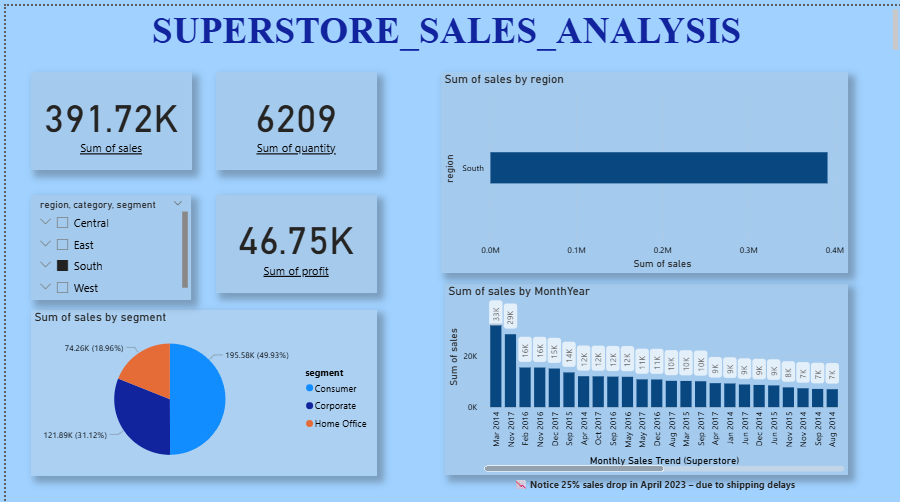

This screenshot's page, from the dashboard's own definition file:
{"tool":"powerbi","page":{"name":"Page 1","canvas":[1280,720],"ordinal":0},"visuals":[{"type":"lineClusteredColumnComboChart","fields":{"Category":["DateTable.MonthYear"],"Y":["Sum(Sample___Superstore.sales)"]},"box":[627.2,396.3,575.9,273.7],"z":0},{"type":"textbox","box":[721.2,669.9,436.2,34.2],"z":1000},{"type":"barChart","fields":{"Category":["Sample___Superstore.region"],"Y":["Sum(Sample___Superstore.sales)"]},"box":[621.5,94.1,581.6,286.5],"z":2000},{"type":"pieChart","fields":{"Category":["Sample___Superstore.segment"],"Y":["Sum(Sample___Superstore.sales)"]},"box":[35.3,433.8,494.1,236.8],"z":3000},{"type":"card","fields":{"Values":["Sum(Sample___Superstore.sales)"]},"box":[35.3,94.1,229.4,139.7],"z":3002},{"type":"card","fields":{"Values":["Sum(Sample___Superstore.profit)"]},"box":[300,269.1,229.4,139.7],"z":3003},{"type":"card","fields":{"Values":["Sum(Sample___Superstore.quantity)"]},"box":[300,94.1,229.4,139.7],"z":3004},{"type":"textbox","box":[202.9,0,1076.5,69.1],"z":3006},{"type":"slicer","fields":{"Values":["Sample___Superstore.region","Sample___Superstore.category","Sample___Superstore.segment"]},"box":[35,269,229,150],"z":3007}]}

Visuals, with their boxes in screenshot pixels (x1, y1, x2, y2), scaled from the page's 1280x720 canvas onto the 900x502 screenshot:
lineClusteredColumnComboChart - DateTable.MonthYear x Sum(Sample___Superstore.sales): Rect(441, 276, 846, 467)
textbox: Rect(507, 467, 814, 491)
barChart - Sample___Superstore.region x Sum(Sample___Superstore.sales): Rect(437, 66, 846, 265)
pieChart - Sample___Superstore.segment x Sum(Sample___Superstore.sales): Rect(25, 302, 372, 468)
card - Sum(Sample___Superstore.sales): Rect(25, 66, 186, 163)
card - Sum(Sample___Superstore.profit): Rect(211, 188, 372, 285)
card - Sum(Sample___Superstore.quantity): Rect(211, 66, 372, 163)
textbox: Rect(143, 0, 899, 48)
slicer - Sample___Superstore.region x Sample___Superstore.category: Rect(25, 188, 186, 292)
